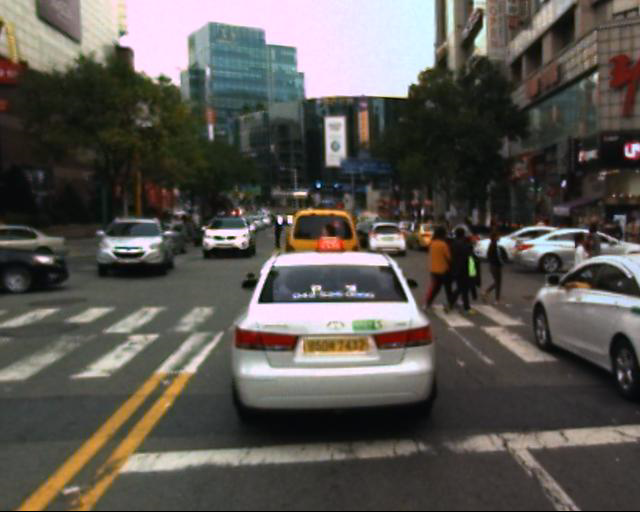person: (427, 220, 488, 322), (297, 217, 349, 322), (419, 220, 468, 321), (475, 222, 516, 314), (571, 227, 601, 315), (577, 216, 607, 302), (594, 205, 640, 255), (270, 213, 290, 253)
